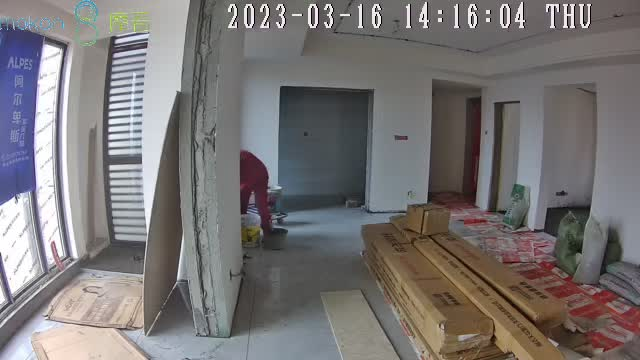people: (240, 147, 272, 237)
window: (1, 24, 68, 316)
